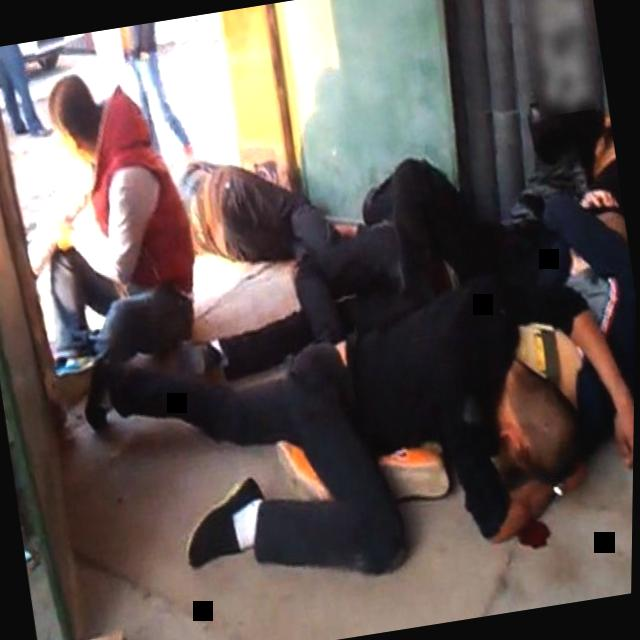Fall-Detected: (144, 110, 374, 312)
